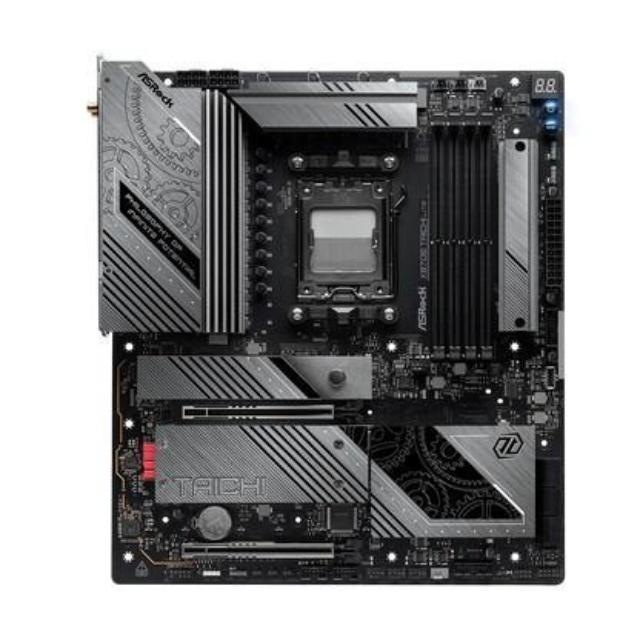Mainboard: (80, 49, 577, 602)
